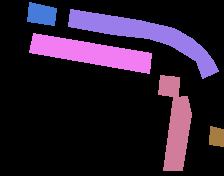parkingspot: (68, 9, 218, 78), (29, 33, 151, 73), (163, 96, 191, 170), (27, 2, 56, 25), (158, 75, 179, 97), (209, 126, 224, 146)
